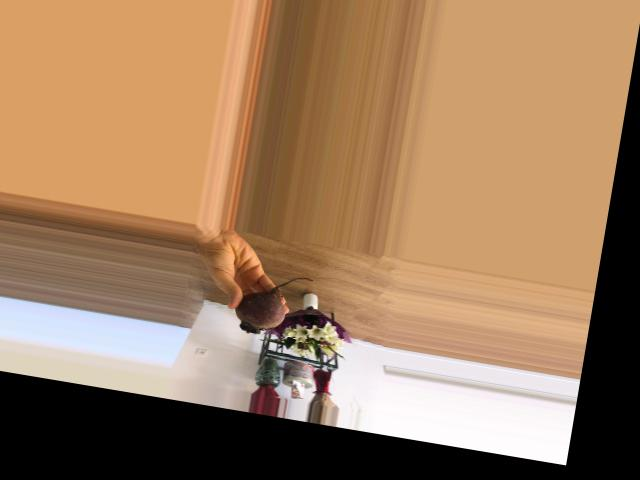beet: (232, 267, 315, 342)
